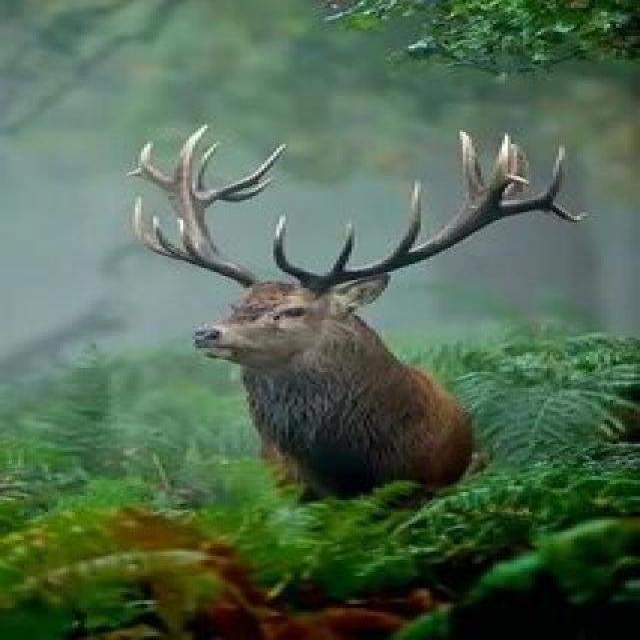deer: (109, 155, 622, 501)
